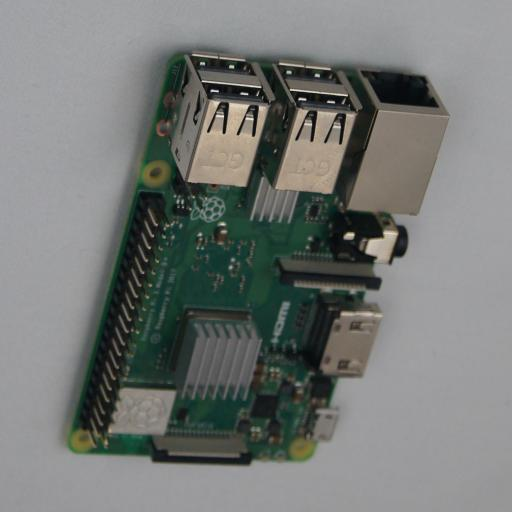Raspberry Pi 3 B-: (67, 47, 448, 466)
